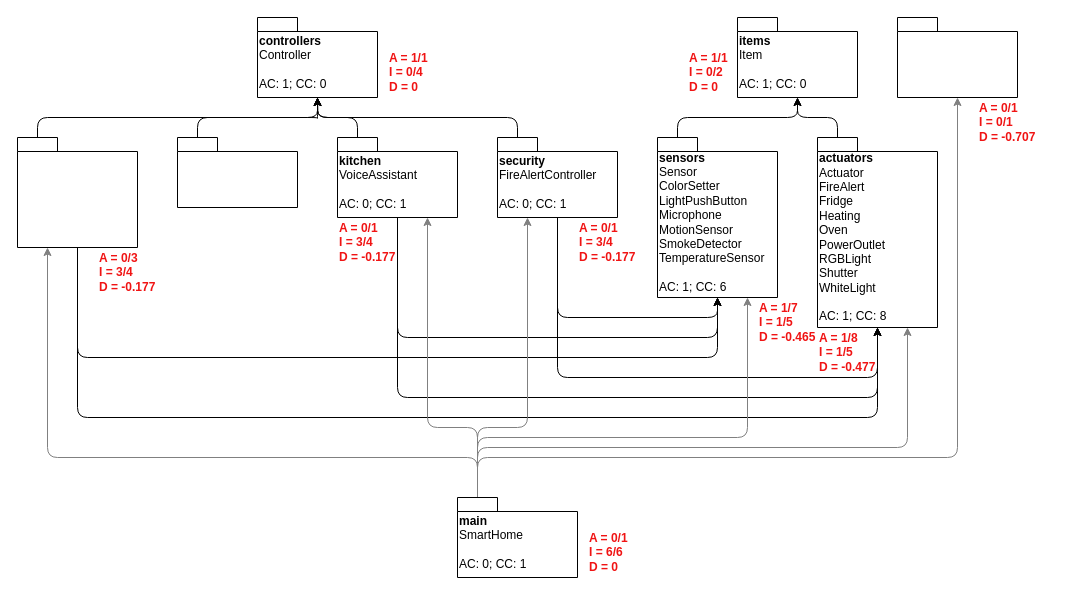
The diagram is 1065 pixels wide and 595 high, and some of its shapes have lost their labels. The centre of each missing label's shape, as x and y in pixels:
"basic HeatingController RGBLightController WhiteLightController AC: 0; CC: 3" belongs at point (77, 192).
"entertainment AC: 0; CC: 0" belongs at point (237, 172).
"house Room AC: 0; CC: 1" belongs at point (957, 57).
